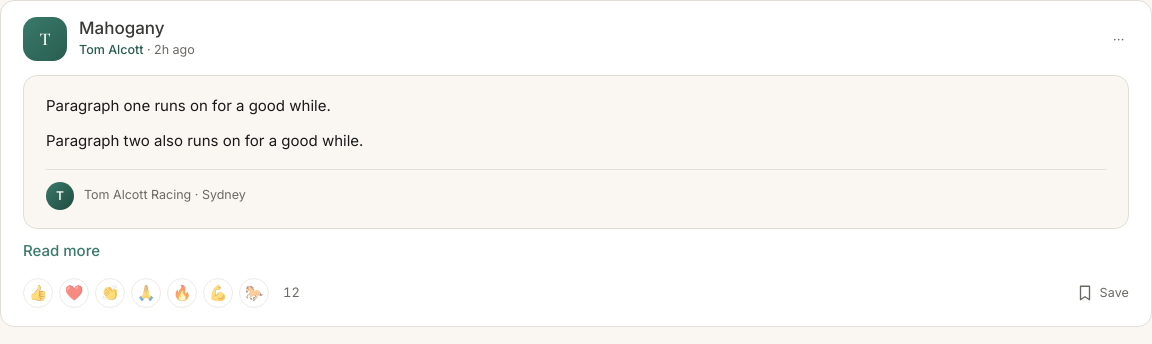
Test: PostPanel — Read more / Read less toggle › offers "Read more" (no trailing dots), toggles to "Read less" and back, and flips aria-expanded
Step 1. Click the button with test id "post-panel-read-more" → click(62, 250), box left=23, top=240, right=100, bottom=260
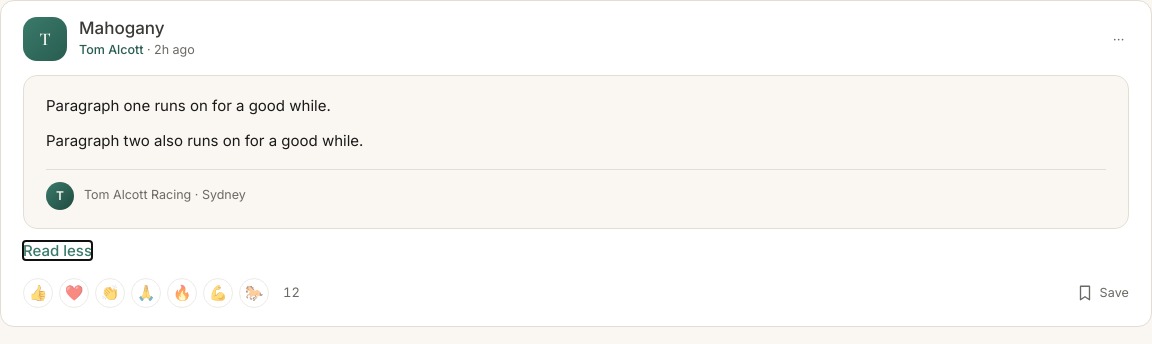
Check: the button with test id "post-panel-read-more" reads "Read less"
Check: the button with test id "post-panel-read-more" is expanded
Step 2. Click the button with test id "post-panel-read-more" → click(58, 250), box left=23, top=240, right=92, bottom=260
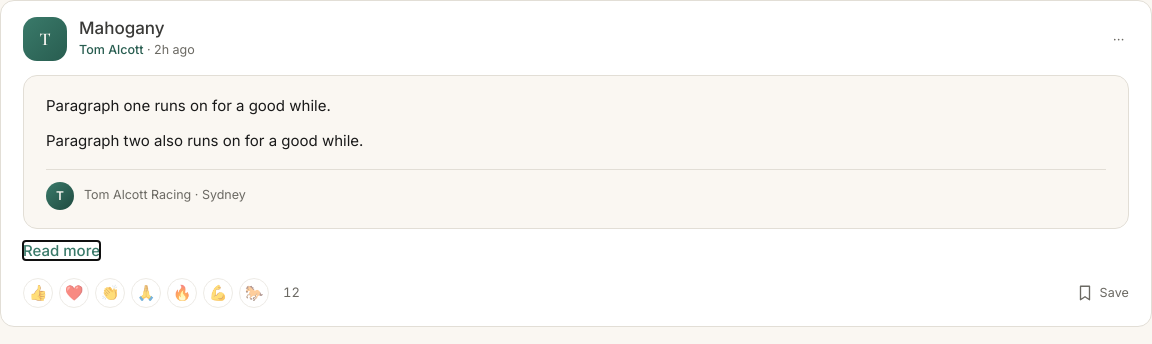
Check: the button with test id "post-panel-read-more" reads "Read more", box left=23, top=240, right=100, bottom=260
Check: the button with test id "post-panel-read-more" is collapsed, box left=23, top=240, right=100, bottom=260
